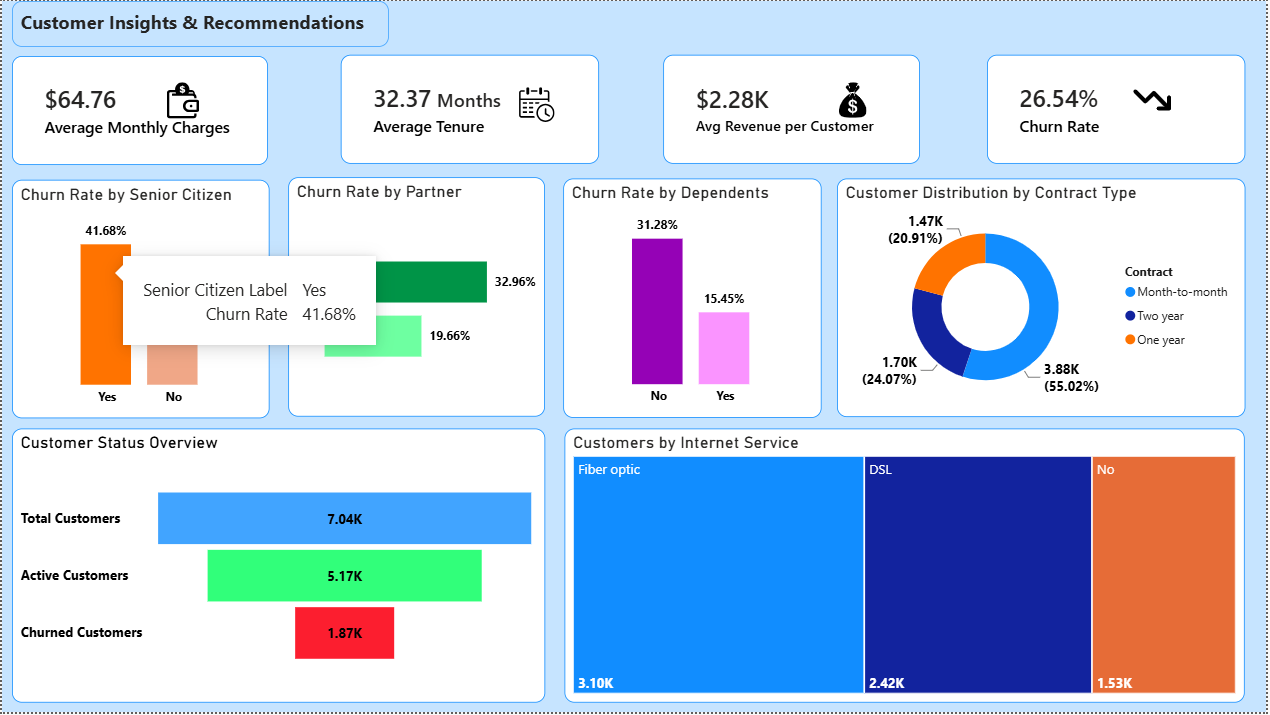

The page's visual inventory and layout, read from the dashboard file:
{"tool":"powerbi","page":{"name":"Page 2","canvas":[1280,720],"ordinal":1},"visuals":[{"type":"cardVisual","fields":{"Data":["Measures (2).Average Monthly Charges"]},"box":[10,55.1,259.3,110.2],"z":0},{"type":"cardVisual","fields":{"Data":["Measures (2).Average Tenure"]},"box":[342.5,55,261.2,110],"z":1000},{"type":"cardVisual","fields":{"Data":["Measures (2).Average Revenue per Customer"]},"box":[670,55,260,110],"z":2000},{"type":"cardVisual","fields":{"Data":["Measures (2).Churn Rate"]},"box":[997.5,55,261.2,110],"z":3000},{"type":"columnChart","title":"Churn Rate by Senior Citizen ","fields":{"Y":["Measures (2).Churn Rate"],"Category":["Telco Customer Churn.Senior Citizen Label"]},"box":[10,180.4,260.6,241.8],"z":4000},{"type":"barChart","title":"Churn Rate by Partner","fields":{"Category":["Telco Customer Churn.Partner"],"Y":["Measures (2).Churn Rate"]},"box":[290,178.8,260,242.5],"z":5000},{"type":"columnChart","title":"Churn Rate by Dependents","fields":{"Y":["Measures (2).Churn Rate"],"Category":["Telco Customer Churn.Dependents"]},"box":[568.8,180,261.2,242.5],"z":6000},{"type":"treemap","title":"Customers by Internet Service","fields":{"Group":["Telco Customer Churn.InternetService"],"Values":["Measures (2).Total Customers"]},"box":[570,432.5,688.8,277.5],"z":7000},{"type":"funnel","title":"Customer Status Overview","fields":{"Y":["Measures (2).Total Customers","Measures (2).Active Customers","Measures (2).Churned Customers"]},"box":[10,432.5,540,277.5],"z":8000},{"type":"donutChart","title":"Customer Distribution by Contract Type","fields":{"Category":["Telco Customer Churn.Contract"],"Y":["Measures (2).Total Customers"]},"box":[845,180,413.8,241.2],"z":10000},{"type":"image","box":[843.8,82.5,35,36.2],"z":10001},{"type":"image","box":[1145,82.5,38.8,36.2],"z":10002},{"type":"image","box":[522.5,87.5,37.5,35],"z":10003},{"type":"image","box":[161.4,81.9,42.8,36.7],"z":10004},{"type":"textbox","box":[435,82.5,76.2,36.2],"z":10006},{"type":"textbox","box":[10,0,381.2,46.2],"z":10007}]}

Visuals, with their boxes in screenshot pixels (x1, y1, x2, y2), scaled from the page's 1280x720 canvas onto the 1270x715 screenshot:
cardVisual - Measures (2).Average Monthly Charges: bbox(10, 55, 267, 164)
cardVisual - Measures (2).Average Tenure: bbox(340, 55, 599, 164)
cardVisual - Measures (2).Average Revenue per Customer: bbox(665, 55, 923, 164)
cardVisual - Measures (2).Churn Rate: bbox(990, 55, 1249, 164)
"Churn Rate by Senior Citizen " columnChart: bbox(10, 179, 268, 419)
"Churn Rate by Partner" barChart: bbox(288, 178, 546, 418)
"Churn Rate by Dependents" columnChart: bbox(564, 179, 824, 420)
"Customers by Internet Service" treemap: bbox(566, 429, 1249, 705)
"Customer Status Overview" funnel: bbox(10, 429, 546, 705)
"Customer Distribution by Contract Type" donutChart: bbox(838, 179, 1249, 418)
image: bbox(837, 82, 872, 118)
image: bbox(1136, 82, 1175, 118)
image: bbox(518, 87, 556, 122)
image: bbox(160, 81, 203, 118)
textbox: bbox(432, 82, 507, 118)
textbox: bbox(10, 0, 388, 46)
